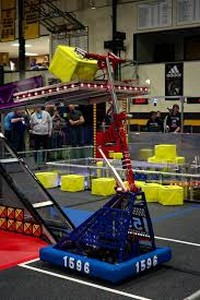cube: (47, 51, 98, 86), (156, 184, 185, 207), (31, 170, 59, 189), (92, 176, 116, 197), (58, 175, 86, 192), (153, 144, 178, 159), (143, 184, 161, 204)
